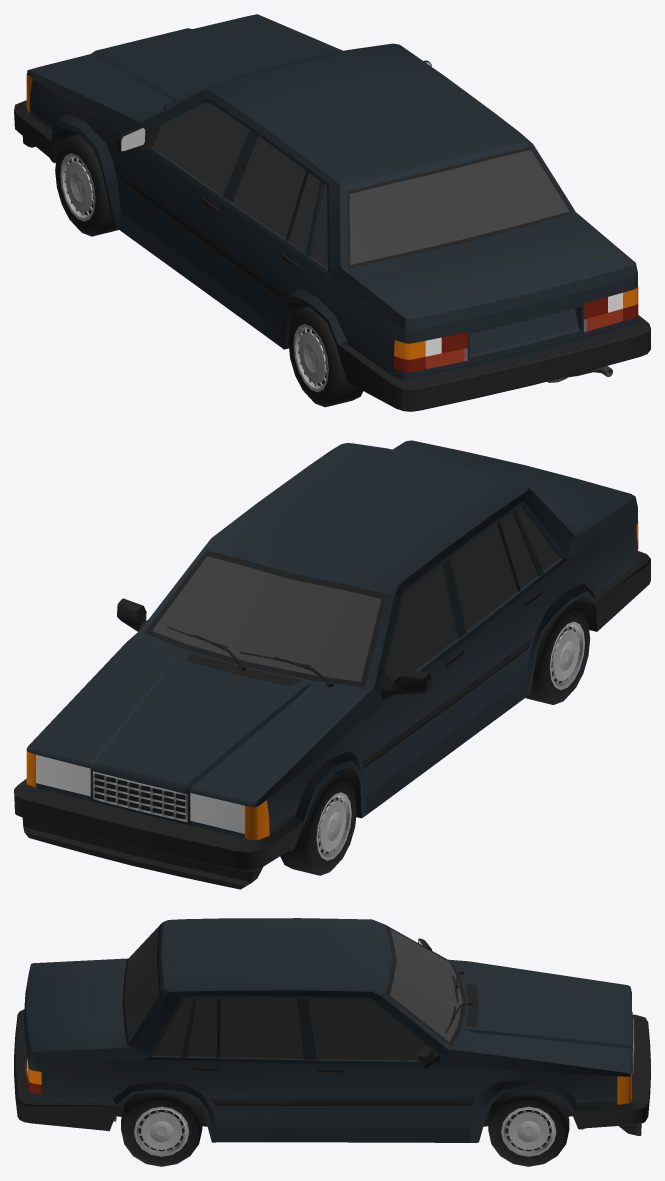
Rendered from m8_sedan_black.glb.
3 renders of one model, top to bottom at view 1: azimuth 30°, elevation 25°; view 2: azimuth 150°, elevation 25°; view 3: azimuth 270°, elevation 25°, orthographic. The views are drawn at different scales.
Parts seen in each view (by area): view 1: Body, Wheel_RL, Wheel_FL; view 2: Body, Wheel_FL, Wheel_RL, Interior; view 3: Body, Wheel_FR, Wheel_RR.
Boxes of the visible parts, bbox=[...] form: Body: bbox=[14, 14, 650, 411]; Wheel_RL: bbox=[288, 306, 363, 407]; Wheel_FL: bbox=[55, 134, 118, 236]; Body: bbox=[14, 440, 650, 889]; Wheel_FL: bbox=[280, 774, 356, 875]; Wheel_RL: bbox=[525, 604, 590, 704]; Interior: bbox=[167, 625, 334, 687]; Body: bbox=[14, 918, 650, 1142]; Wheel_FR: bbox=[488, 1089, 569, 1166]; Wheel_RR: bbox=[121, 1092, 202, 1166].
Size of the model in its own units: 2.13 by 1.39 by 4.78.
1 material, 1 textured.
